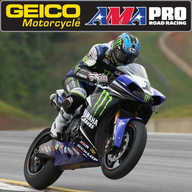Geico: (3, 1, 85, 18)
